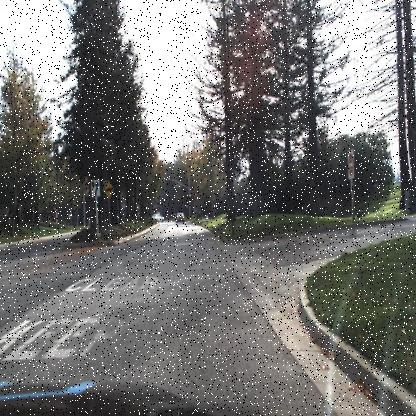car: (151, 210, 166, 224), (149, 212, 165, 225), (174, 210, 186, 226), (176, 210, 184, 224)
